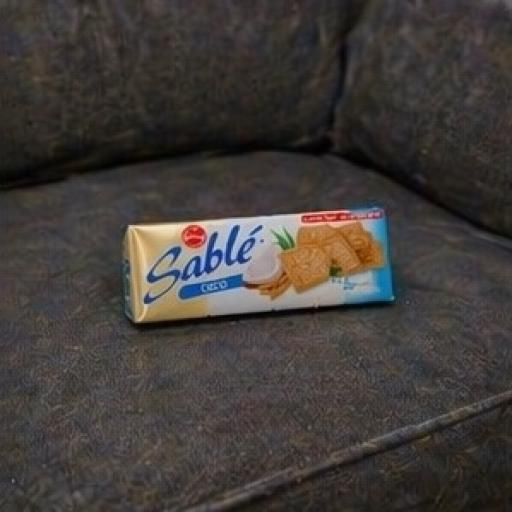sable: (98, 154, 459, 392)
